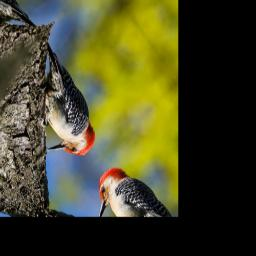Woodpecker: (1, 44, 111, 177)
